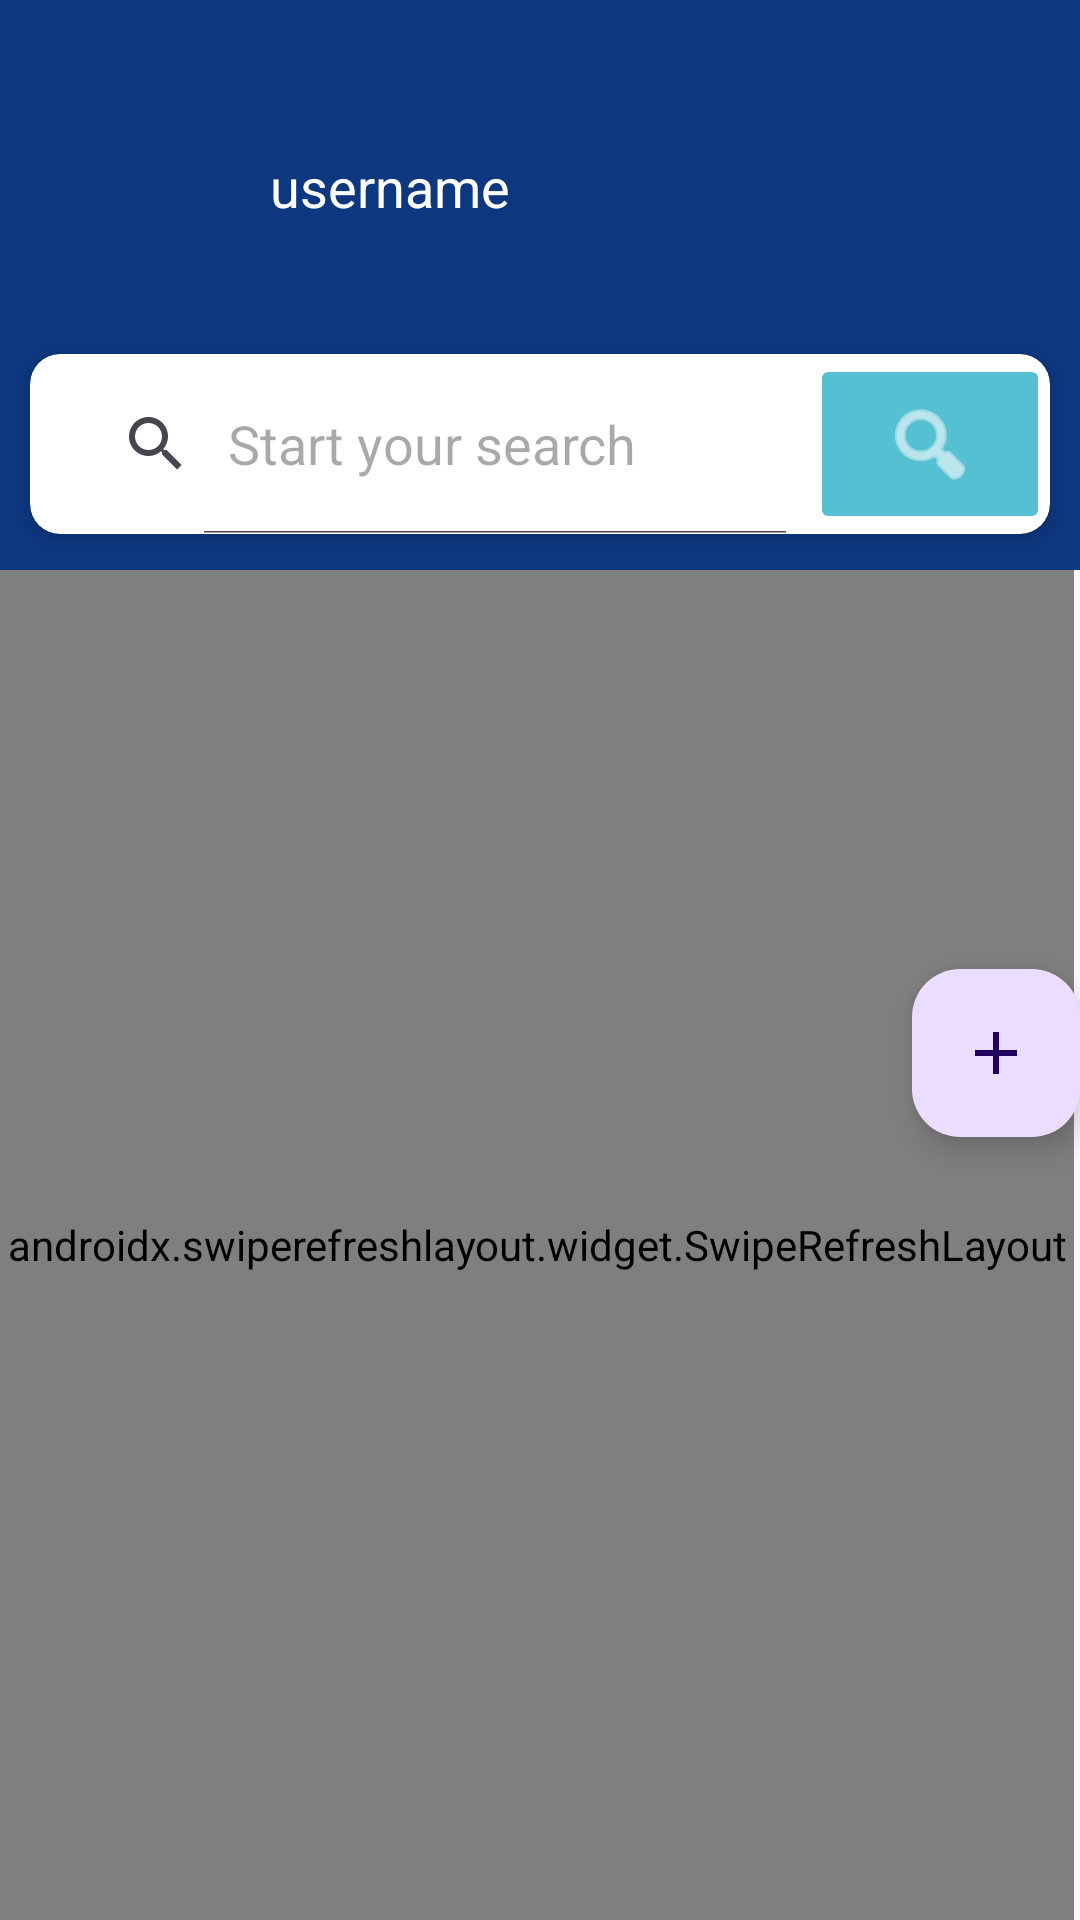

Icon bounding boxes for this 1080px x 1920px phone screenshot, format rect(x1, y1, x2, y2):
add: rect(912, 969, 1080, 1137)
